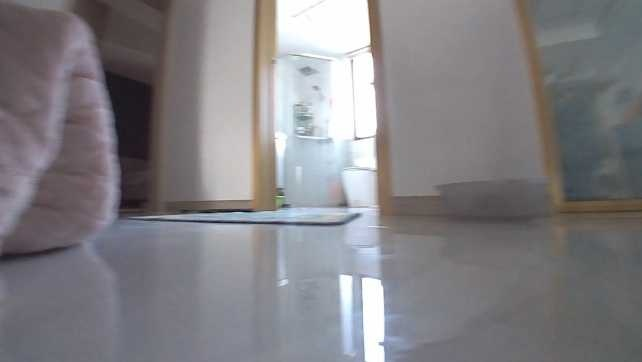blanket: (129, 201, 364, 225)
toilet: (340, 165, 381, 208)
